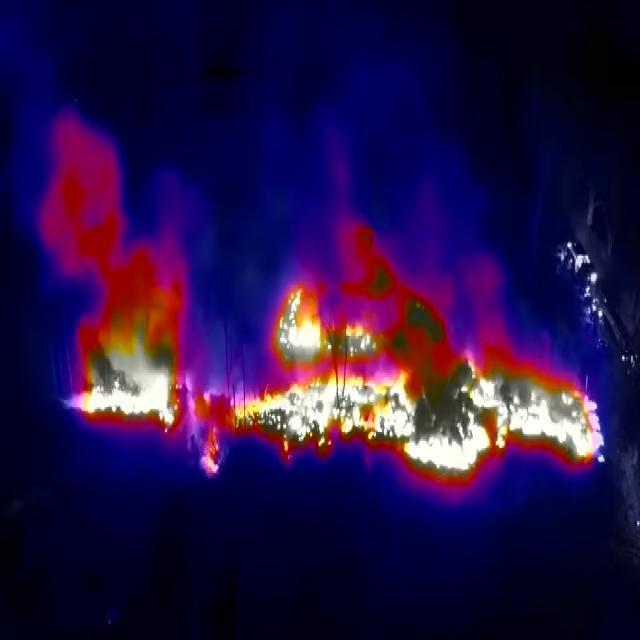fire: (67, 250, 609, 488)
